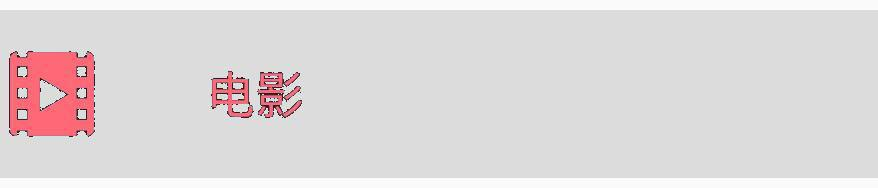CheckedTextView: (1, 1, 877, 187)
